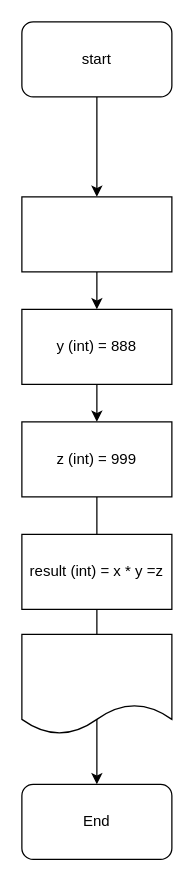
Image size: 194x881. Some labels were removed from this diagram. The centre of each missing label's shape, as x and y in pixels:
"result = x * y + z" belongs at [96,683].
"x (int) = 777" belongs at [96,234].
